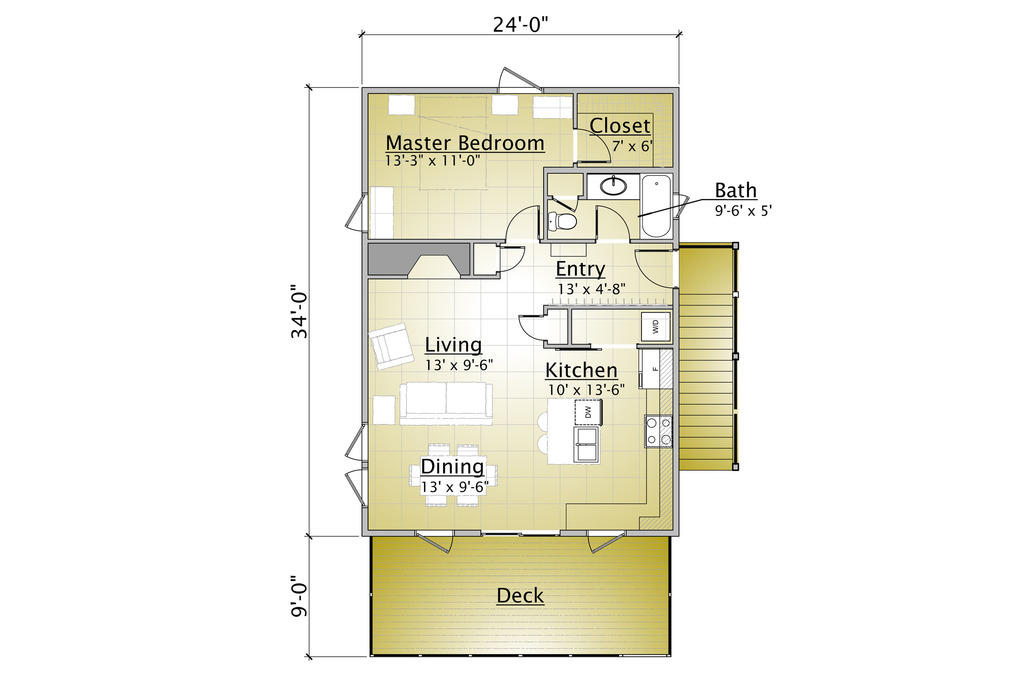dining_table: (403, 442, 502, 509)
door: (625, 244, 682, 295), (495, 206, 545, 246), (594, 205, 634, 252), (495, 62, 549, 95), (572, 120, 614, 162), (415, 523, 460, 554), (337, 468, 370, 509), (344, 192, 376, 233), (335, 426, 368, 465), (581, 525, 627, 552), (515, 310, 547, 337), (501, 246, 526, 271)
kitchen_bar: (537, 397, 611, 470)
large_sink: (547, 201, 582, 239)
large_sofa: (394, 370, 504, 435)
small_sink: (588, 173, 632, 202)
stairs: (682, 241, 751, 480)
tub: (637, 167, 674, 242)
